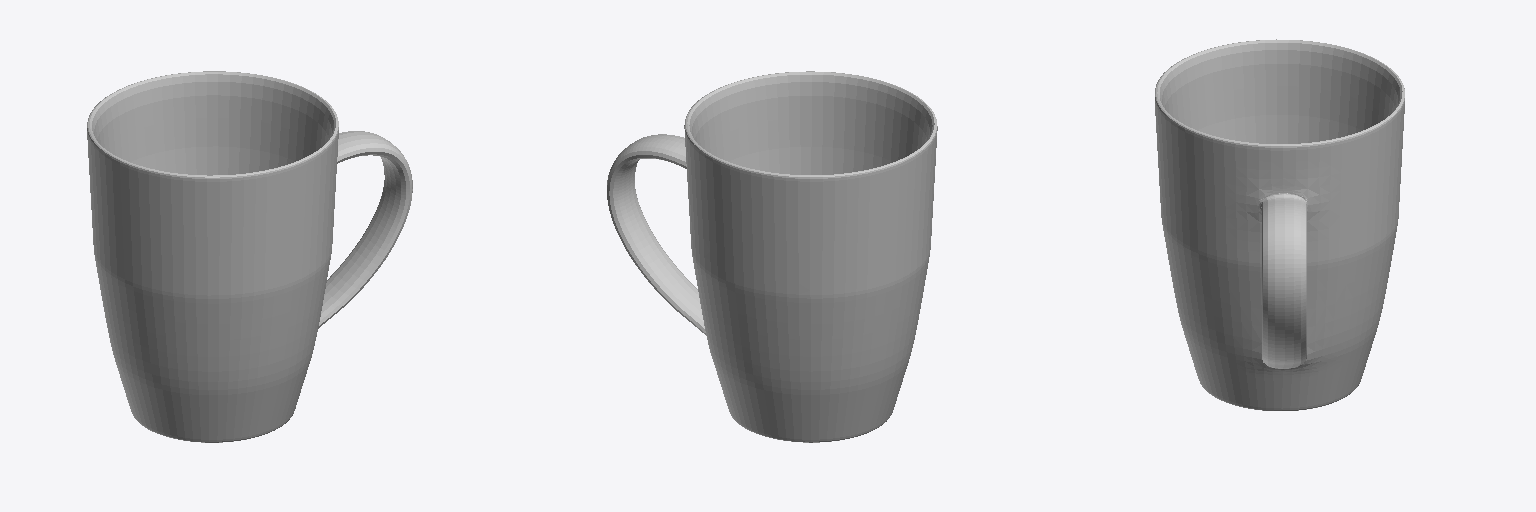
The model's file is mug.obj.
3 renders of one model, left to right at view 1: azimuth 30°, elevation 25°; view 2: azimuth 150°, elevation 25°; view 3: azimuth 270°, elevation 25°, orthographic.
Parts seen in each view (by area): view 1: Cylinder_Cylinder.002; view 2: Cylinder_Cylinder.002; view 3: Cylinder_Cylinder.002.
Part boxes in pixels (x1,y1,x2,y2): Cylinder_Cylinder.002: (87,71,412,442); Cylinder_Cylinder.002: (607,71,937,442); Cylinder_Cylinder.002: (1155,39,1404,410).
Size of the model in its own units: 8.9 by 7.96 by 6.33.